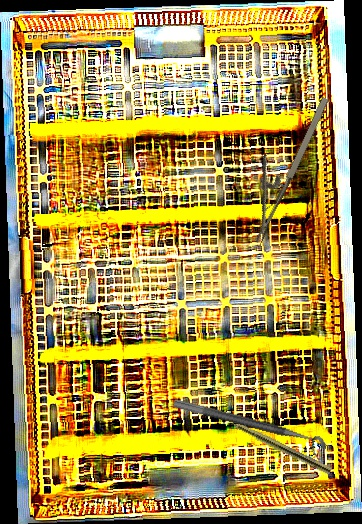Fixation Ring: (169, 397, 329, 462)
Handpiece: (215, 410, 333, 476)
Needle Holder: (226, 85, 334, 245)
